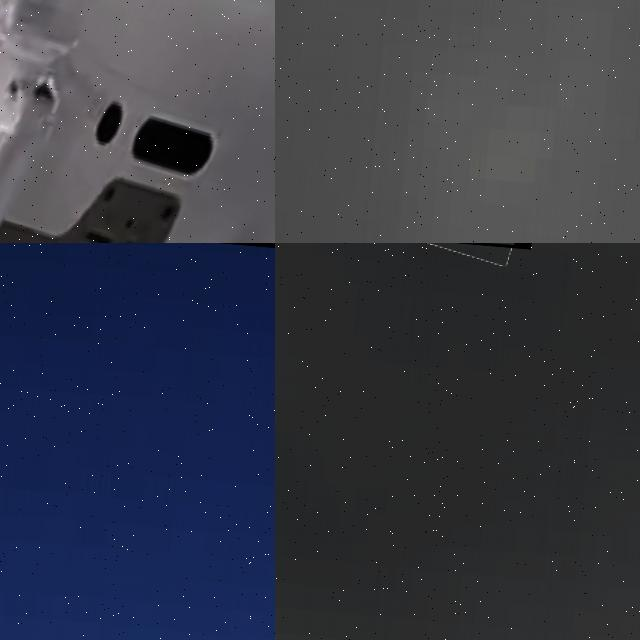drone: (0, 0, 275, 243)
